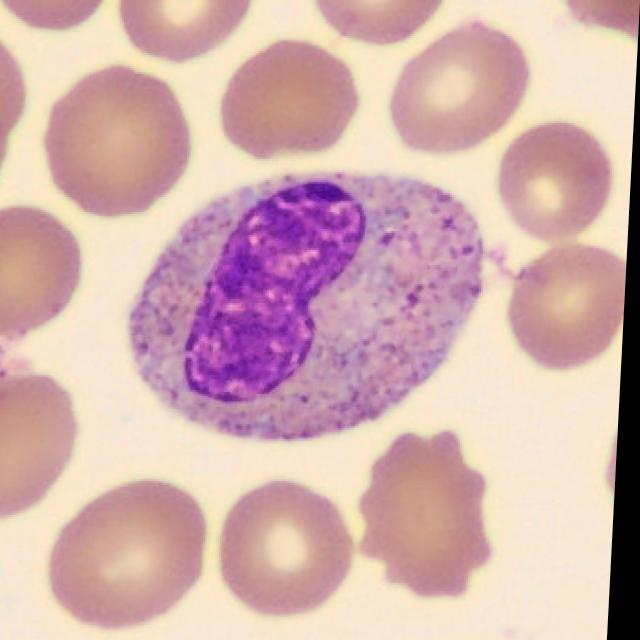Metamielocito: (130, 172, 488, 441)
